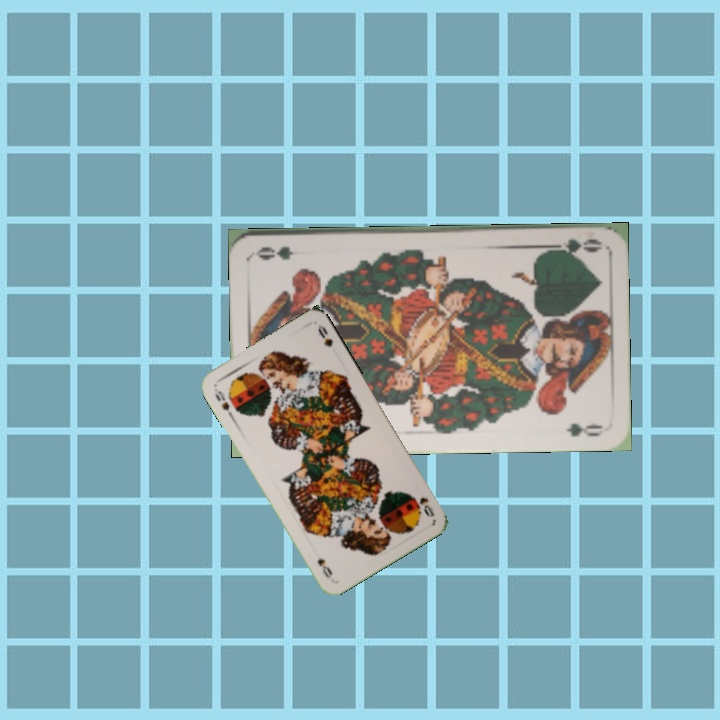GO: (543, 235, 602, 257)
SO: (210, 384, 236, 421), (409, 492, 437, 520)
